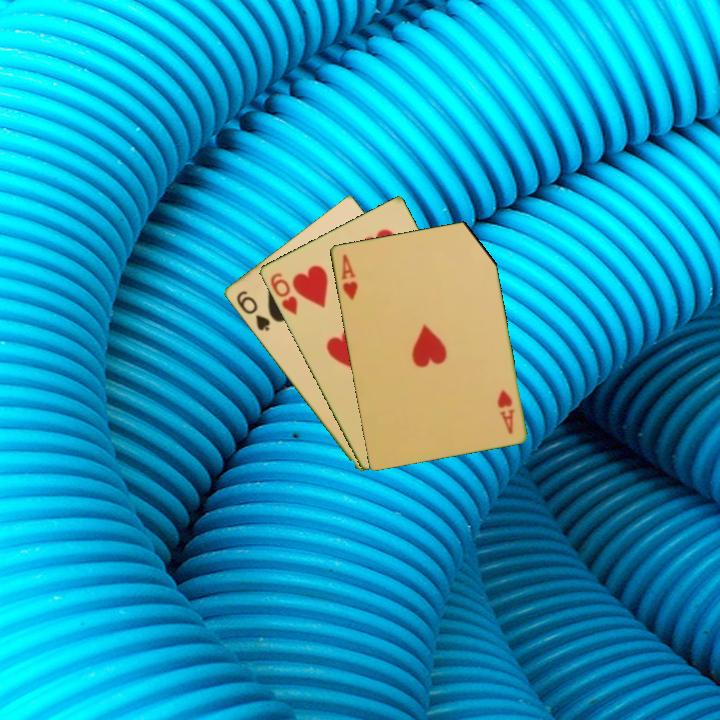6h: (266, 269, 300, 318)
6s: (232, 287, 272, 334)
Ah: (337, 250, 360, 303), (494, 386, 517, 437)
